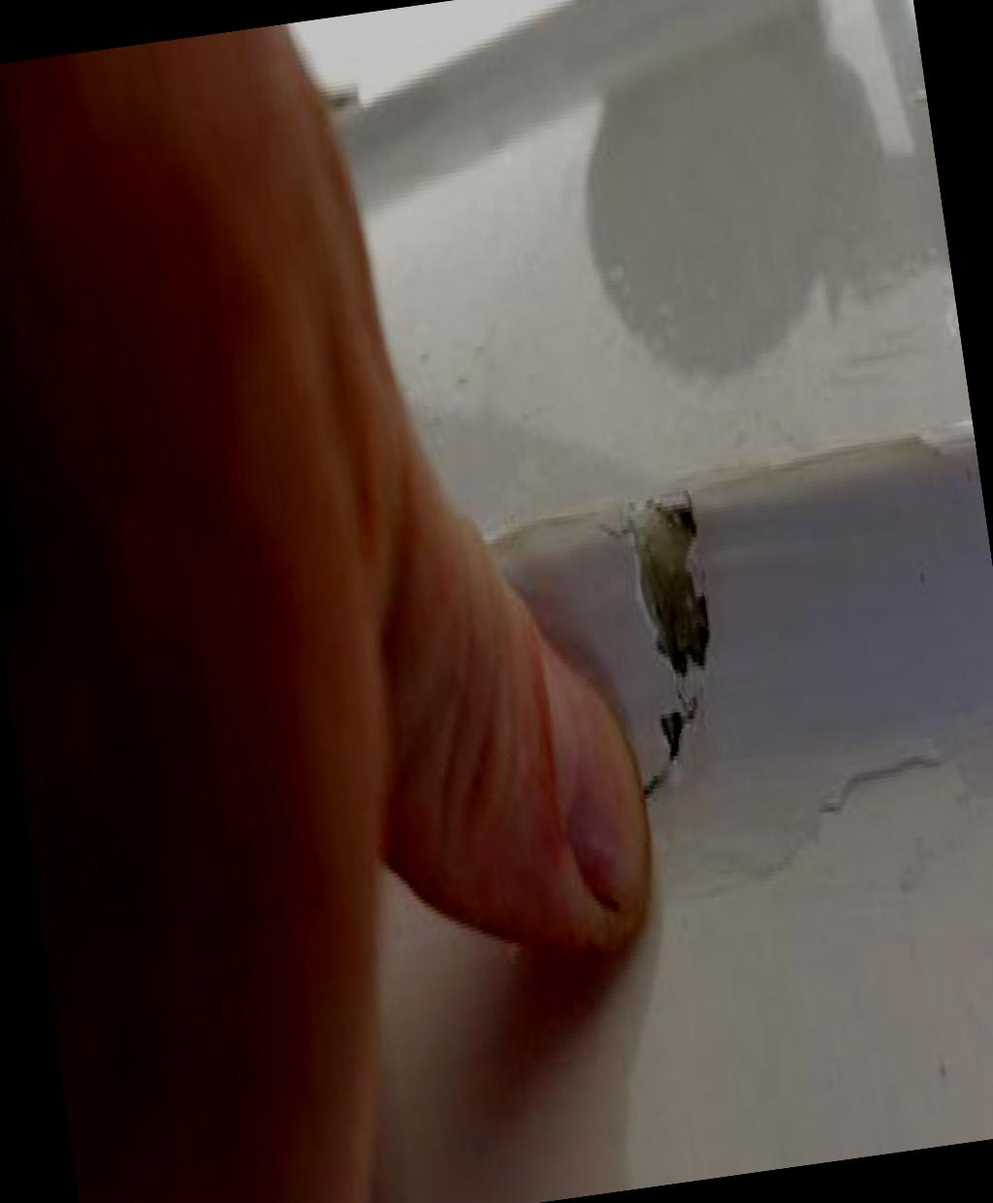crack: (605, 484, 748, 829)
